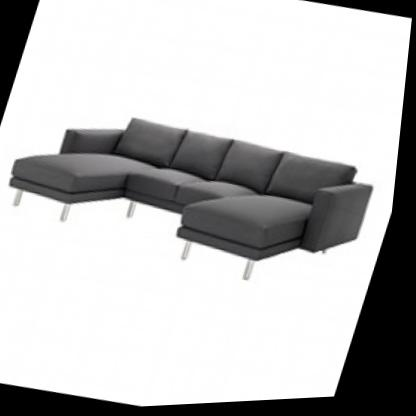Sofa: (0, 41, 411, 338)
